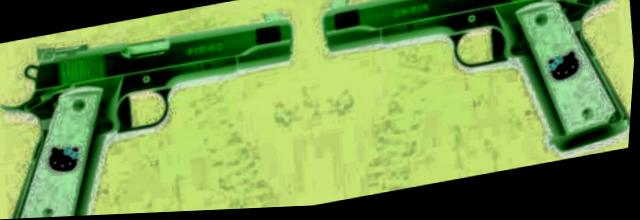pistol: (0, 0, 319, 220), (309, 0, 640, 194)
